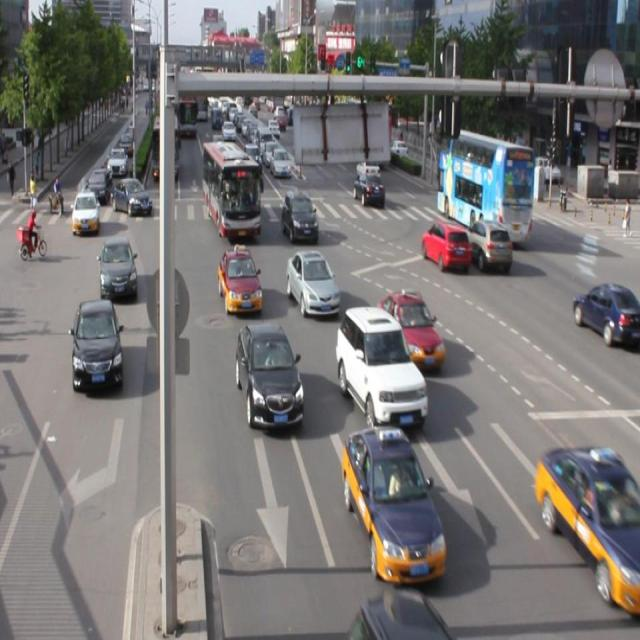car: (532, 446, 640, 614), (341, 426, 446, 580), (337, 305, 425, 427), (236, 320, 303, 429), (378, 289, 445, 371), (72, 298, 124, 394), (570, 282, 640, 345), (286, 248, 339, 315), (217, 248, 262, 315), (463, 216, 511, 273), (421, 220, 470, 272), (100, 235, 138, 301), (282, 191, 319, 243)
van: (435, 131, 532, 242)
